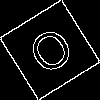O: (24, 24, 82, 84)
